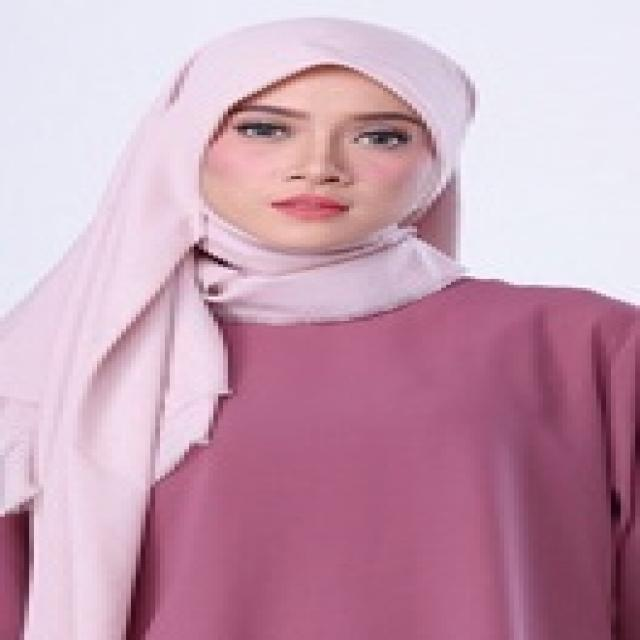head: (189, 18, 440, 265)
